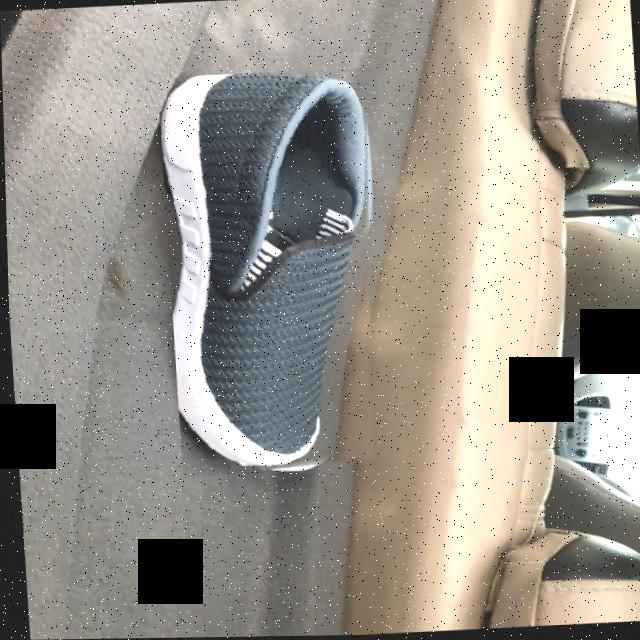shoe: (159, 73, 368, 471)
